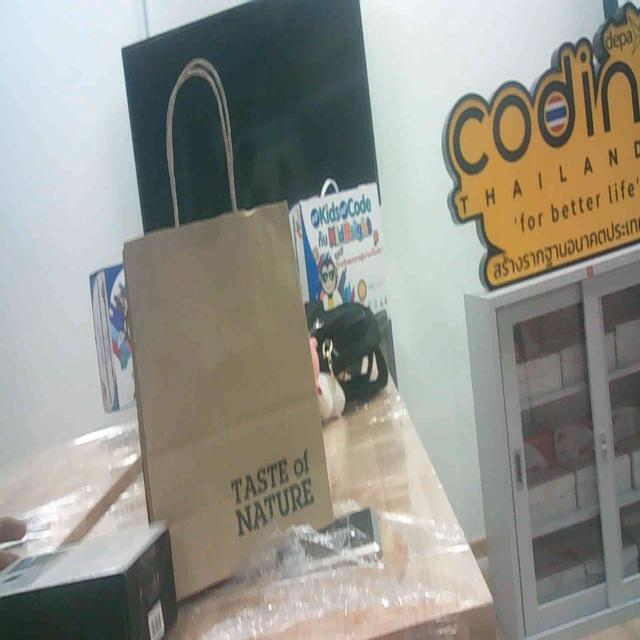bag: (116, 218, 342, 565)
